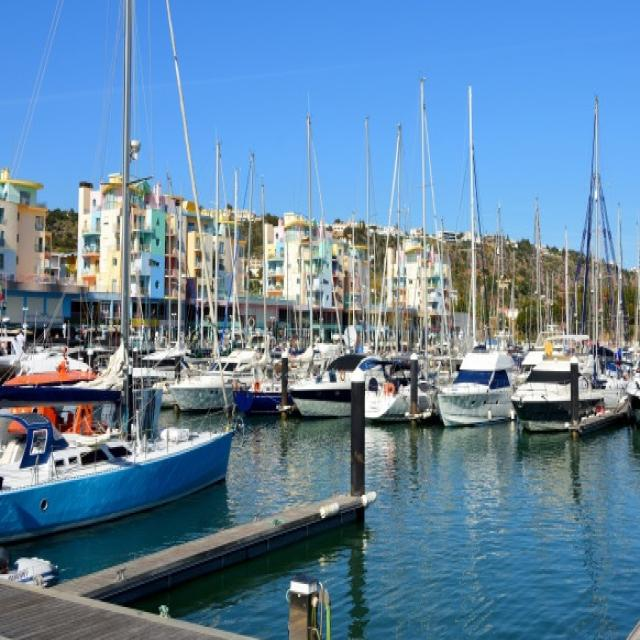passenger ship: (504, 343, 598, 441), (439, 350, 518, 441), (290, 357, 356, 447), (358, 346, 428, 426), (609, 341, 640, 429)
